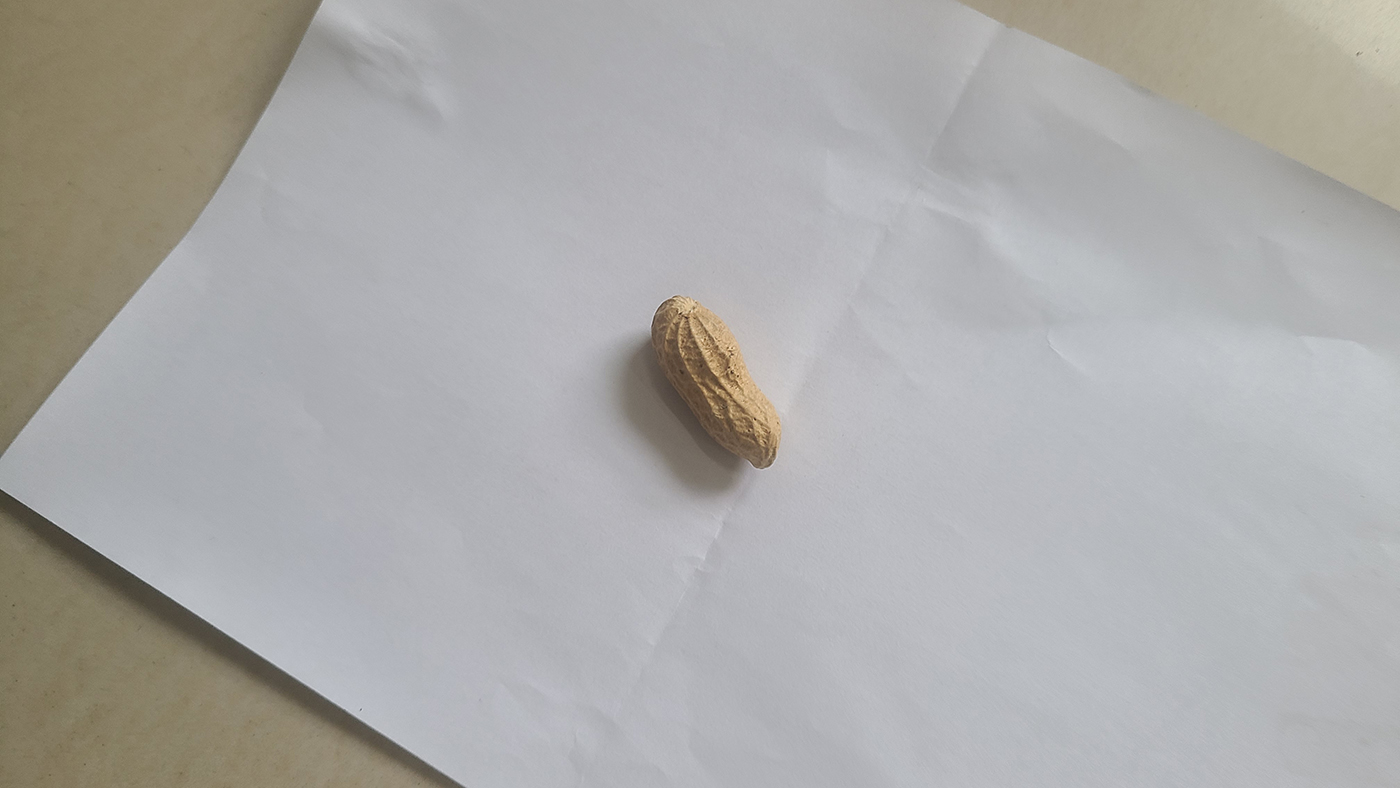h: (653, 295, 782, 469)
